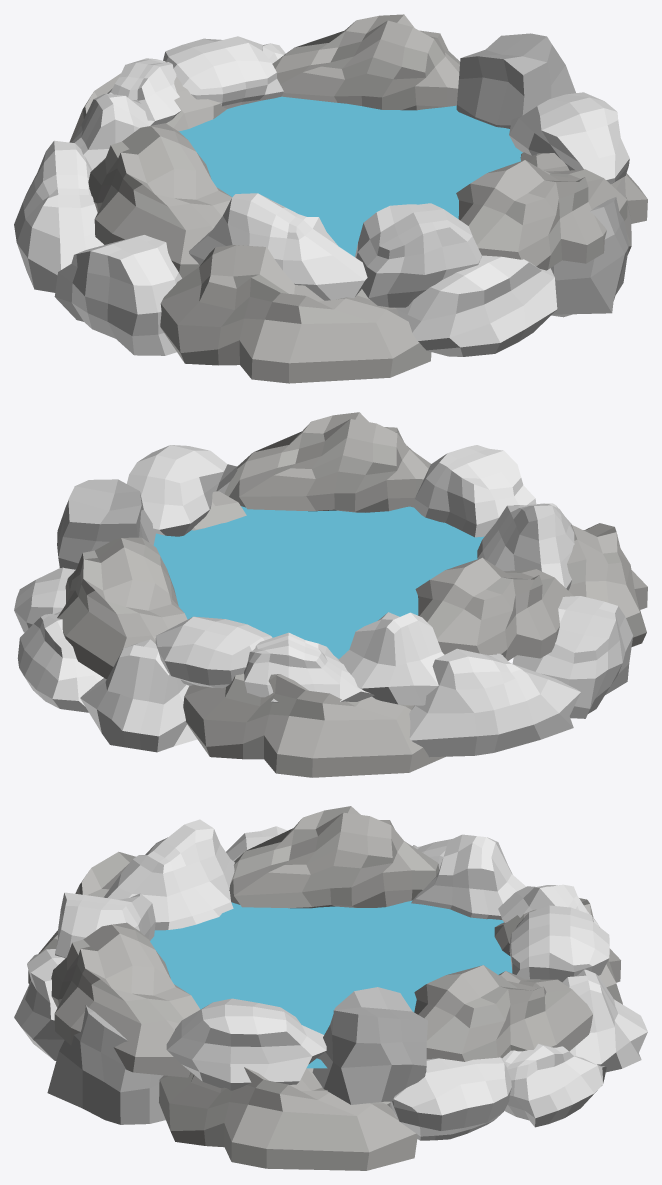
File: Brunnen_01_rdy.fbx
3 renders of one model, top to bottom at view 1: azimuth 30°, elevation 25°; view 2: azimuth 150°, elevation 25°; view 3: azimuth 270°, elevation 25°, orthographic. The views are drawn at different scales.
Parts seen in each view (by area): view 1: Water, Rock_02.004, Rock_02, Rock_02.002, Rock_02.001, Rock_04.001, Rock_05.001, Rock_05, Rock_08, Rock_08.001, Rock_01, Rock_04 (+6 smaller); view 2: Water, Rock_02.005, Rock_02.001, Rock_08.001, Rock_02.002, Rock_02, Rock_07.001, Rock_05.001, Rock_05, Rock_07, Rock_04, Rock_01 (+7 smaller); view 3: Water, Rock_02.003, Rock_02.002, Rock_02.001, Rock_02, Rock_04, Rock_01, Rock_08, Rock_01.001, Rock_03.001, Rock_03, Rock_06.001 (+8 smaller).
Part boxes in pixels (bbox=[...]): Water: bbox=[179, 96, 522, 256]; Rock_02.004: bbox=[160, 245, 431, 383]; Rock_02: bbox=[272, 14, 459, 110]; Rock_02.002: bbox=[88, 123, 232, 278]; Rock_02.001: bbox=[456, 160, 627, 270]; Rock_04.001: bbox=[395, 255, 557, 356]; Rock_05.001: bbox=[54, 235, 181, 355]; Rock_05: bbox=[355, 203, 481, 307]; Rock_08: bbox=[189, 193, 367, 300]; Rock_08.001: bbox=[14, 140, 103, 292]; Rock_01: bbox=[456, 33, 575, 128]; Rock_04: bbox=[509, 92, 629, 184]; Water: bbox=[153, 506, 484, 658]; Rock_02.005: bbox=[183, 673, 445, 777]; Rock_02.001: bbox=[224, 412, 430, 512]; Rock_08.001: bbox=[409, 648, 580, 757]; Rock_02.002: bbox=[415, 557, 573, 660]; Rock_02: bbox=[57, 537, 187, 679]; Rock_07.001: bbox=[80, 639, 197, 752]; Rock_05.001: bbox=[512, 596, 632, 718]; Rock_05: bbox=[414, 445, 536, 537]; Rock_07: bbox=[338, 612, 444, 705]; Rock_04: bbox=[127, 445, 237, 536]; Rock_01: bbox=[57, 479, 156, 569]; Water: bbox=[150, 900, 512, 1068]; Rock_02.003: bbox=[159, 1067, 417, 1170]; Rock_02.002: bbox=[229, 806, 438, 908]; Rock_02.001: bbox=[51, 922, 200, 1077]; Rock_02: bbox=[414, 965, 592, 1061]; Rock_04: bbox=[166, 998, 326, 1090]; Rock_01: bbox=[312, 987, 427, 1104]; Rock_08: bbox=[104, 819, 234, 930]; Rock_01.001: bbox=[47, 1005, 165, 1124]; Rock_03.001: bbox=[389, 1057, 511, 1140]; Rock_03: bbox=[509, 905, 609, 981]; Rock_06.001: bbox=[502, 1043, 606, 1127].
Size of the model in its own units: 1478 by 428 by 1501.
